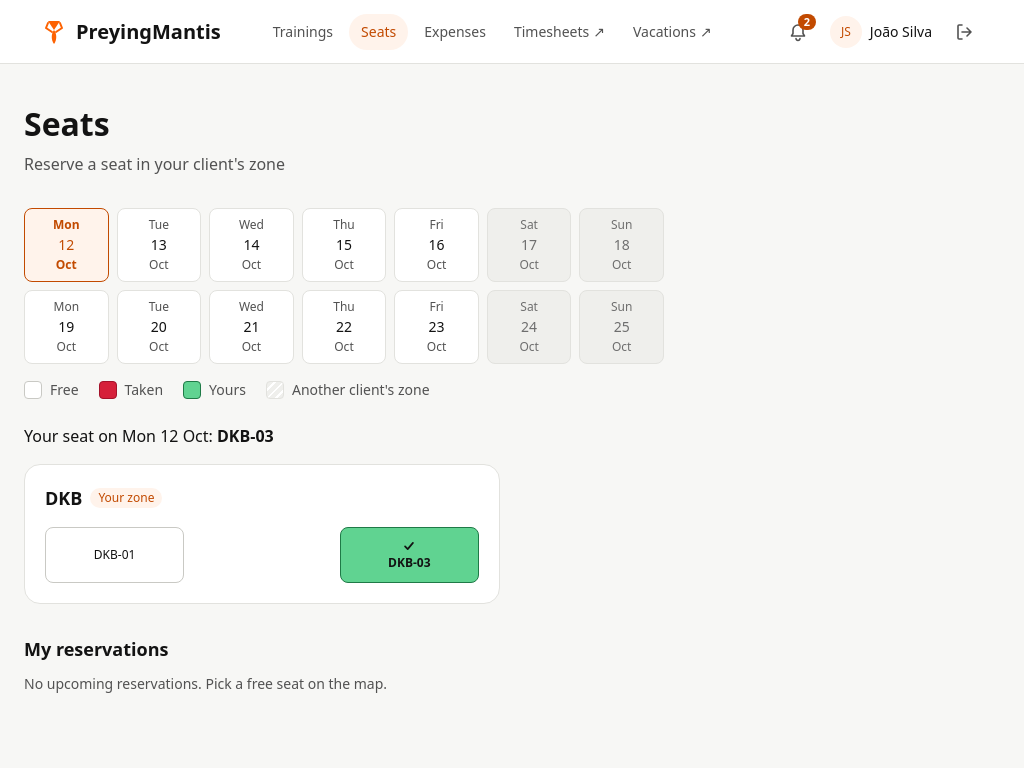
Test: reserve a seat › offers to move when I already have a seat that day
This screenshot has width=1024, height=768.
Step 1. Click the button with aria-label "DKB-01, free" → click(115, 555), box 45,527 -> 184,583
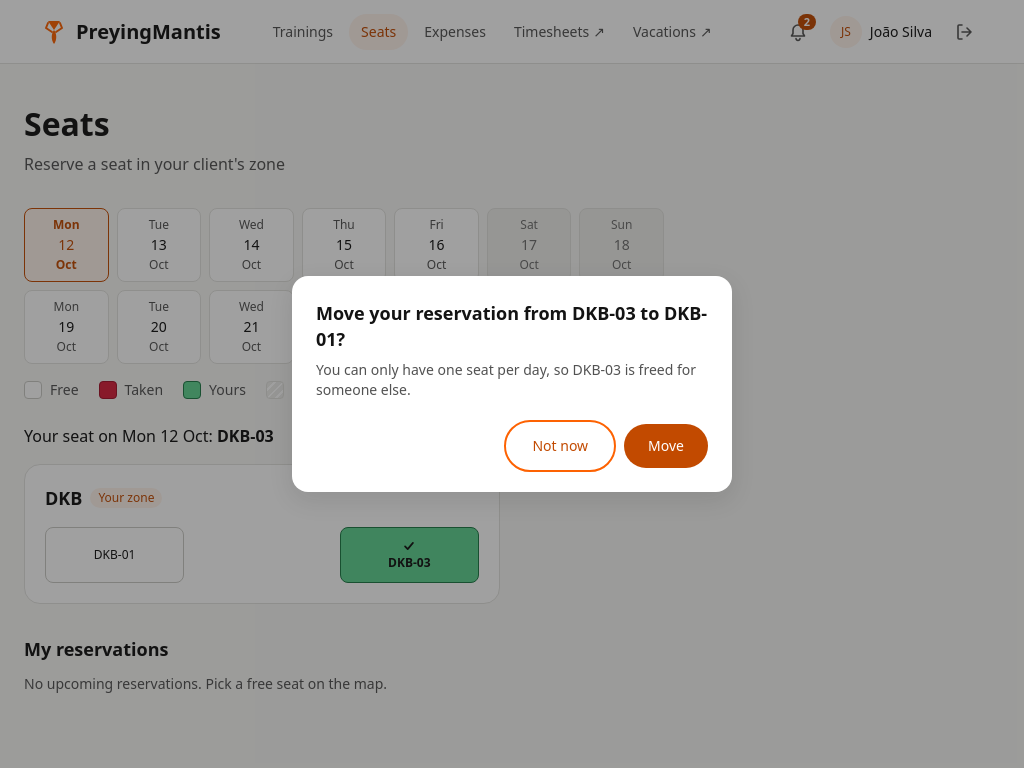
Step 2. Click the button "Move" → click(666, 446), box 624,424 -> 708,468
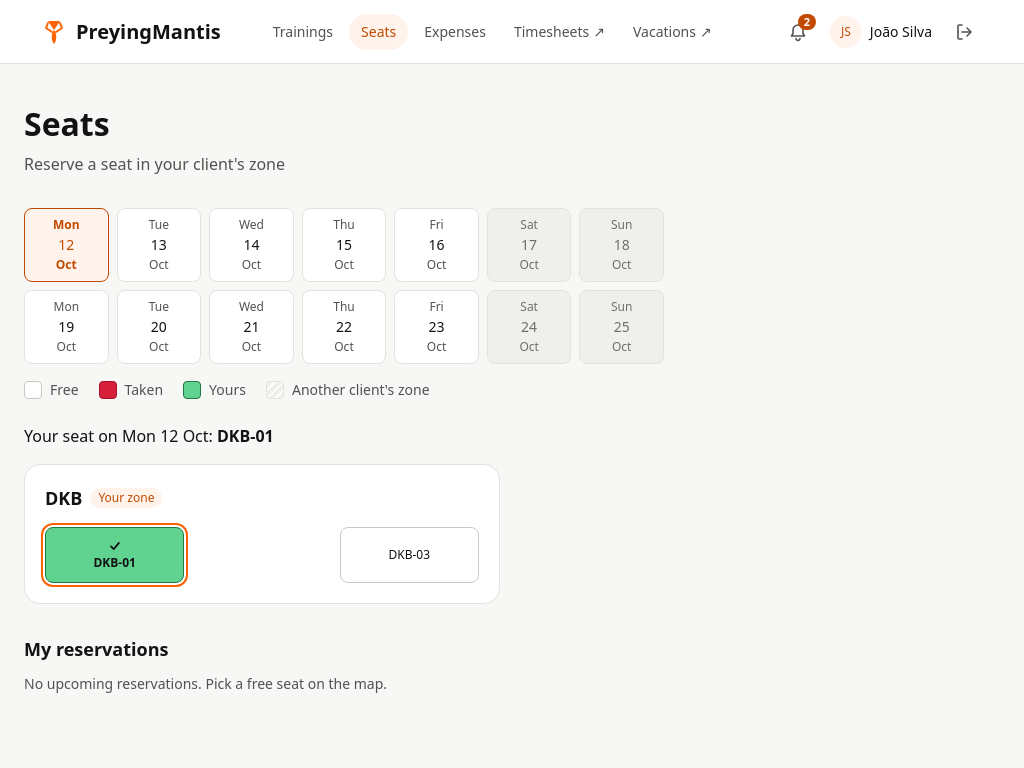
Expected: the button with aria-label "DKB-01, your seat" is shown, 45,527 -> 184,583
Expected: the button with aria-label "DKB-03, free" is shown, 340,527 -> 479,583
